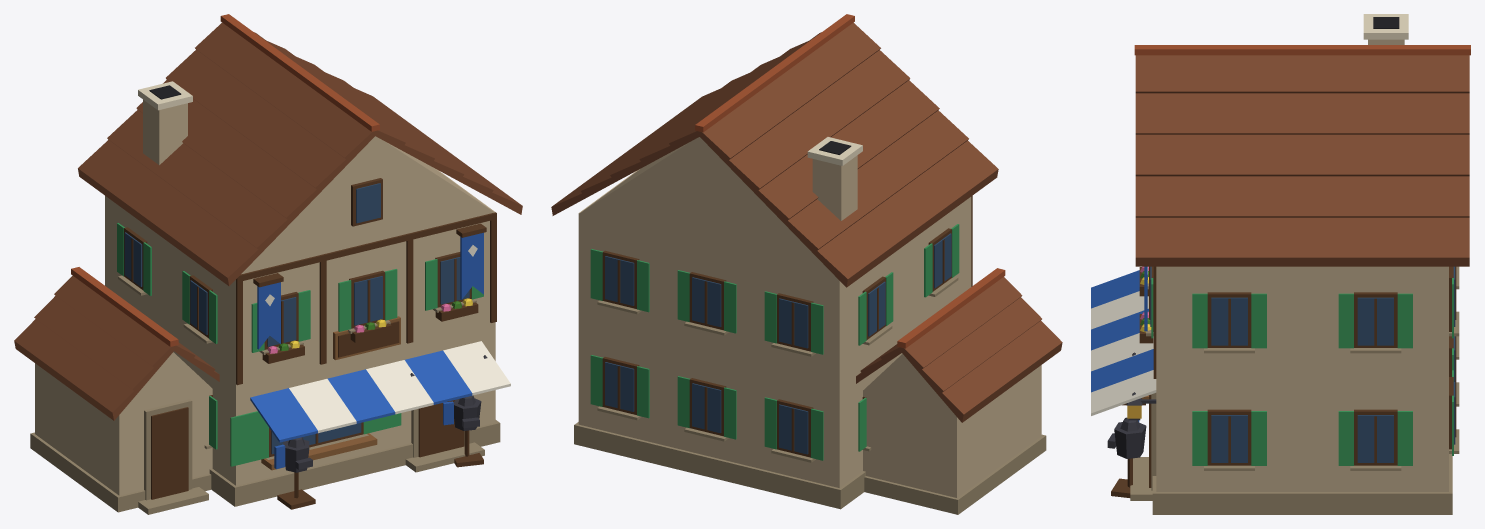
The model's file is Shop_Armor.fbx.
3 views of the same model, side by side, from view 1: azimuth 30°, elevation 25°; view 2: azimuth 150°, elevation 25°; view 3: azimuth 270°, elevation 25° (orthographic). The views are drawn at different scales.
Parts seen in each view (by area): view 1: Shop_Armor; view 2: Shop_Armor; view 3: Shop_Armor.
Part boxes in pixels (<box>): Shop_Armor: <box>14,14,522,514</box>; Shop_Armor: <box>551,14,1062,514</box>; Shop_Armor: <box>1091,14,1470,514</box>.
Bounding box in the file's own units: 9.48 × 8.36 × 7.27.
